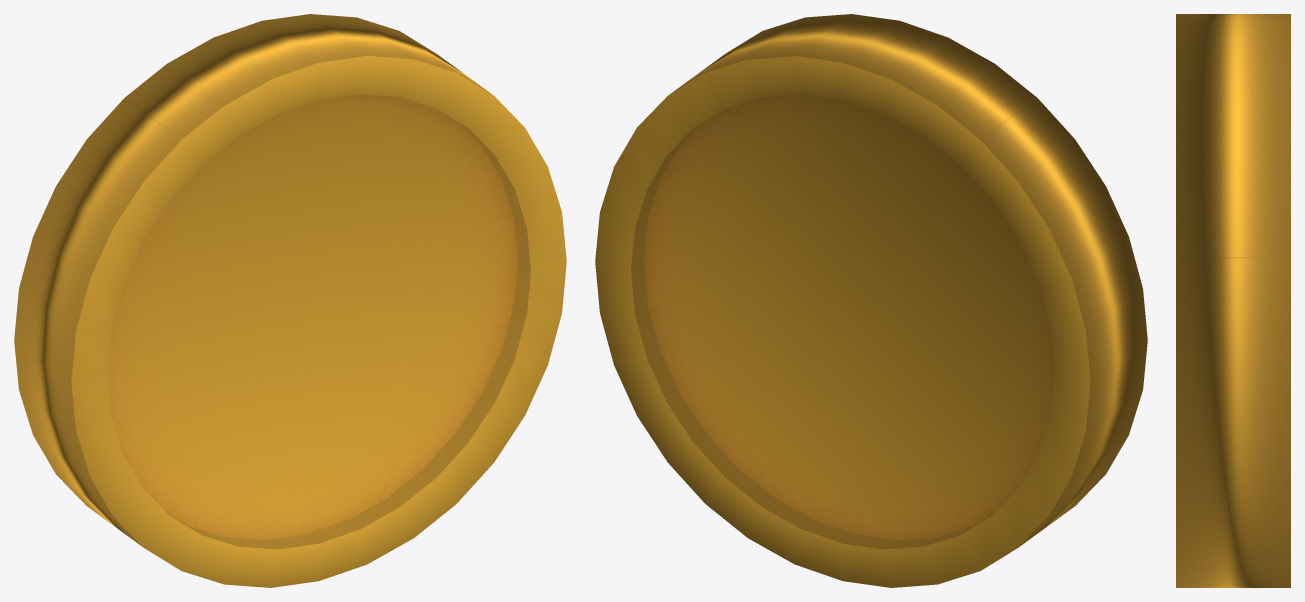
File: coin.glb
3 renders of one model, left to right at view 1: azimuth 30°, elevation 25°; view 2: azimuth 150°, elevation 25°; view 3: azimuth 270°, elevation 25°, orthographic.
Visible parts, largest first — view 1: Cylinder; view 2: Cylinder; view 3: Cylinder.
Boxes of the visible parts, <box> form: Cylinder: <box>14,14,566,587</box>; Cylinder: <box>595,14,1147,587</box>; Cylinder: <box>1176,14,1290,587</box>.
Bounding box in the file's own units: 0.7 × 0.7 × 0.14.
Materials: 1 (1 with a texture image).
